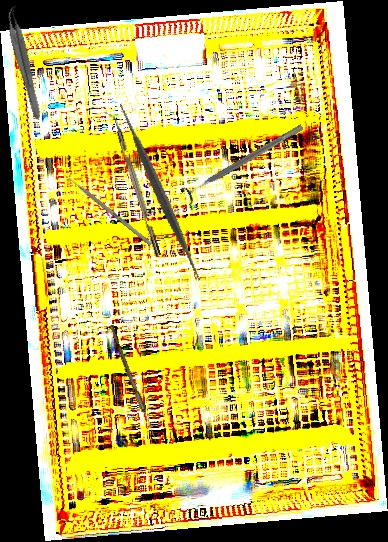Chopper: (103, 108, 162, 259)
Fixation Ring: (179, 117, 308, 207)
Pusher: (59, 169, 153, 247)
Spatula Surgical: (61, 93, 259, 291)
Surgical Spoon: (107, 324, 160, 444)
Tissue Forceps: (1, 3, 49, 122)
